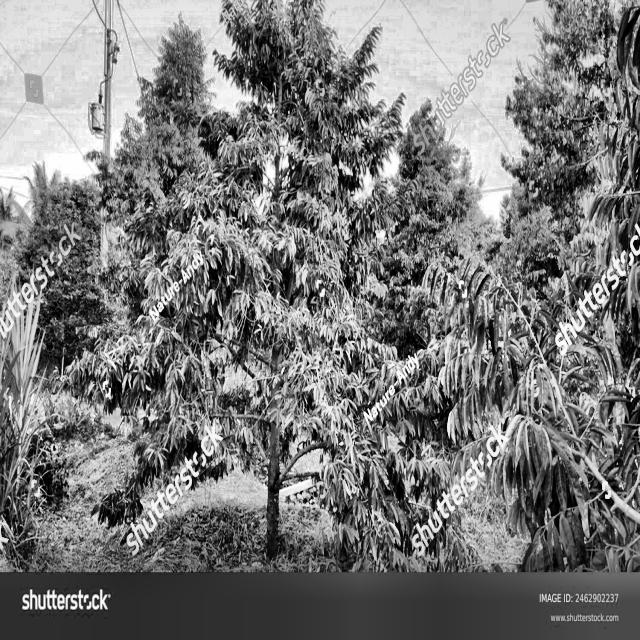arvore: (258, 284, 290, 566)
